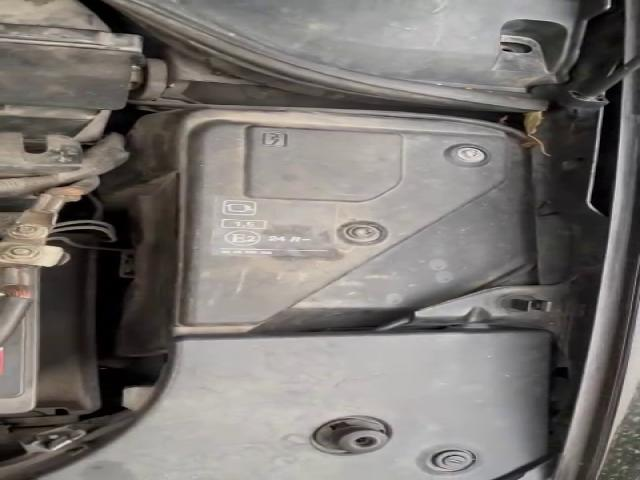fuse_box: (163, 120, 538, 335)
